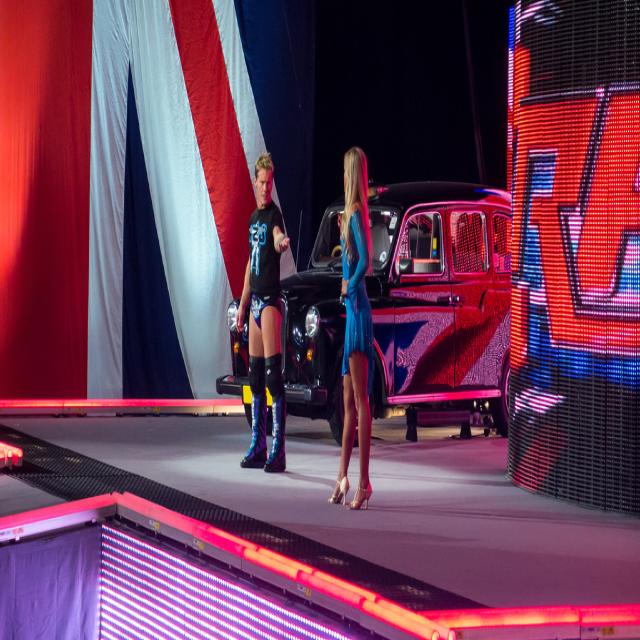car: (228, 188, 506, 458)
